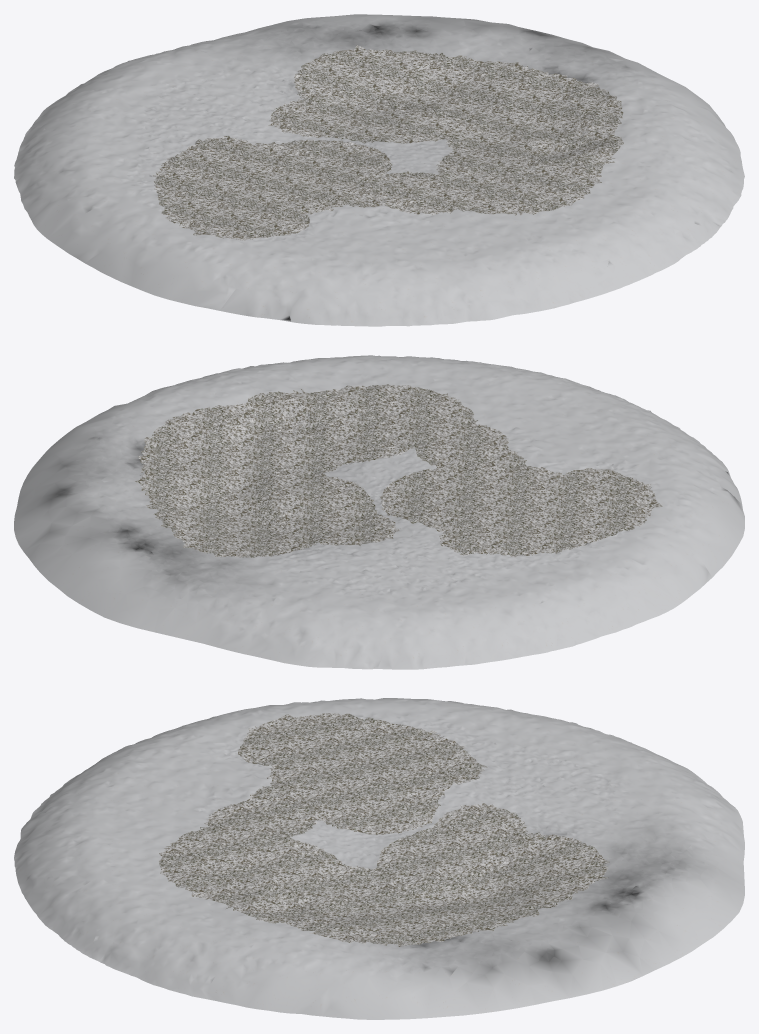
The model's file is floorWinter1.glb.
The picture shows the model from 3 angles, top to bottom: view 1: azimuth 30°, elevation 25°; view 2: azimuth 150°, elevation 25°; view 3: azimuth 270°, elevation 25°; orthographic projection.
Visible parts, largest first — view 1: Snow_Melting; view 2: Snow_Melting; view 3: Snow_Melting.
Part boxes in pixels (bbox=[...]): Snow_Melting: bbox=[14, 14, 744, 326]; Snow_Melting: bbox=[14, 355, 744, 669]; Snow_Melting: bbox=[14, 698, 744, 1019].
Size of the model in its own units: 90.13 by 4.5 by 88.25.
Materials: 2 (2 with a texture image).
